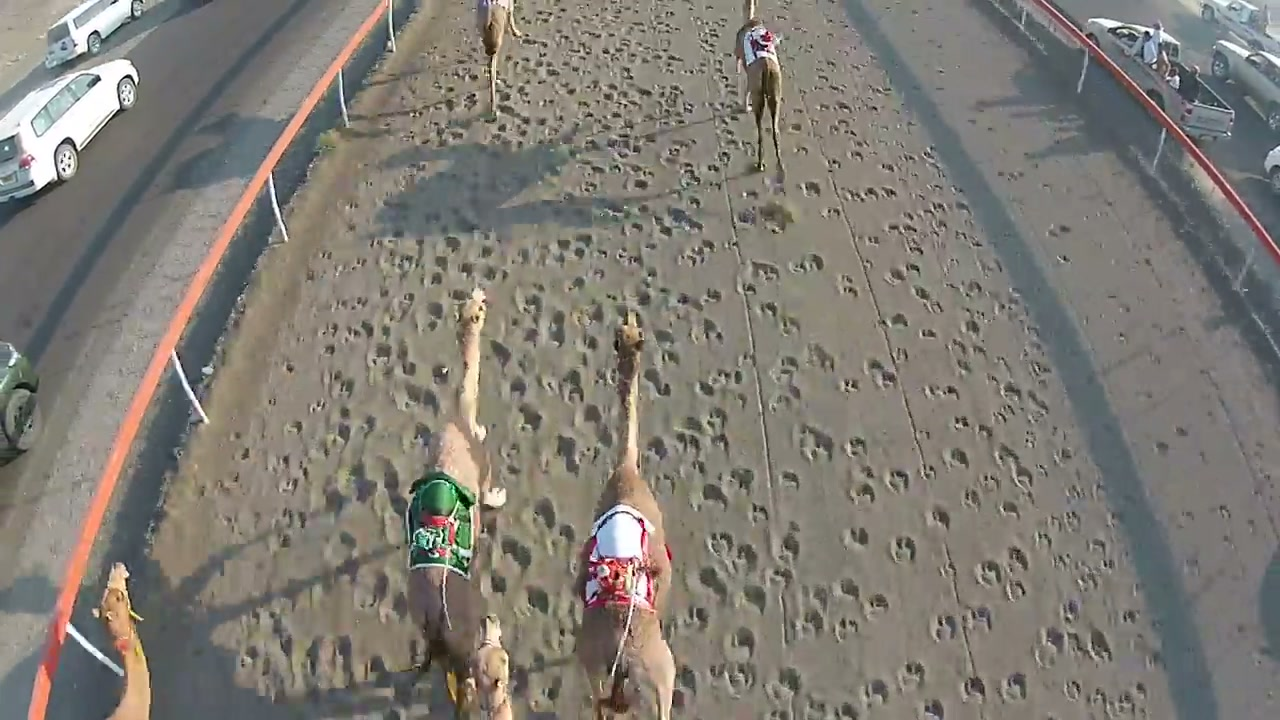animal_foot_print: (149, 0, 1171, 719)
